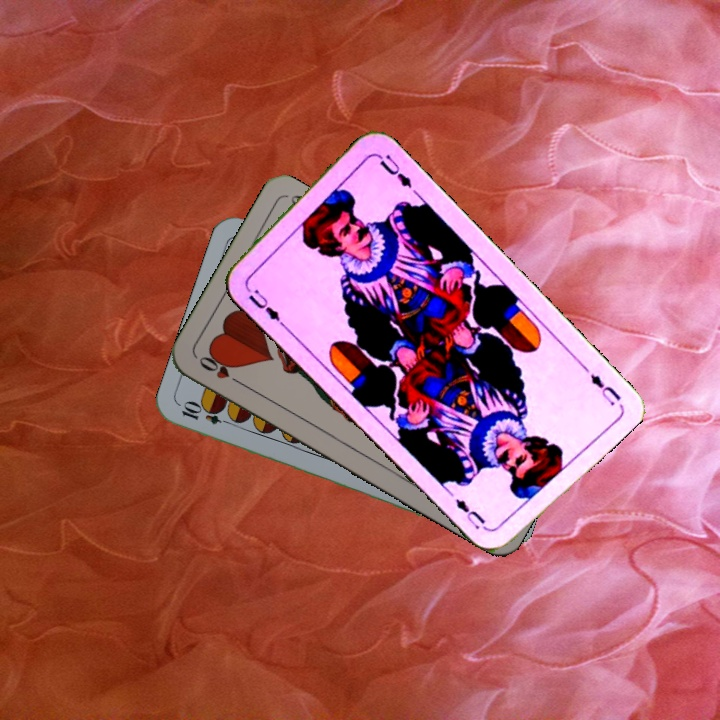E10: (177, 399, 236, 428)
EU: (241, 278, 288, 328), (585, 369, 624, 409)
HO: (194, 352, 247, 389)
